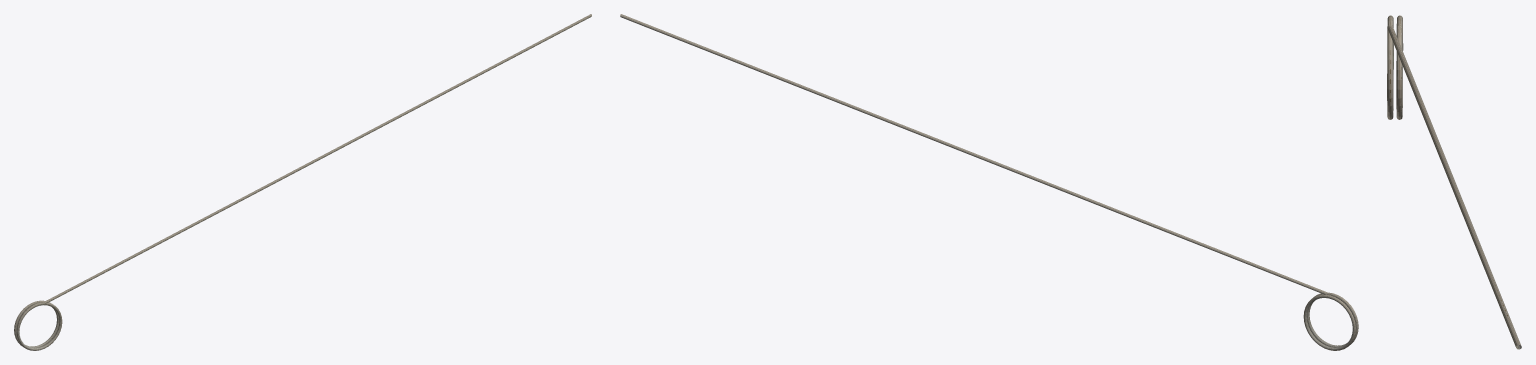
File: circle.154_lev2.glb
The picture shows the model from 3 angles, left to right: view 1: azimuth 30°, elevation 25°; view 2: azimuth 150°, elevation 25°; view 3: azimuth 270°, elevation 25°; orthographic projection. The views are drawn at different scales.
Visible parts, largest first — view 1: circle.154_lev2; view 2: circle.154_lev2; view 3: circle.154_lev2.
Boxes of the visible parts, left/top/right/bottom form: circle.154_lev2: left=14, top=14, right=591, bottom=350; circle.154_lev2: left=620, top=14, right=1358, bottom=350; circle.154_lev2: left=1387, top=15, right=1521, bottom=349.
Size of the model in its own units: 0.8455 by 0.2267 by 0.0813.
1 material, 1 textured.
